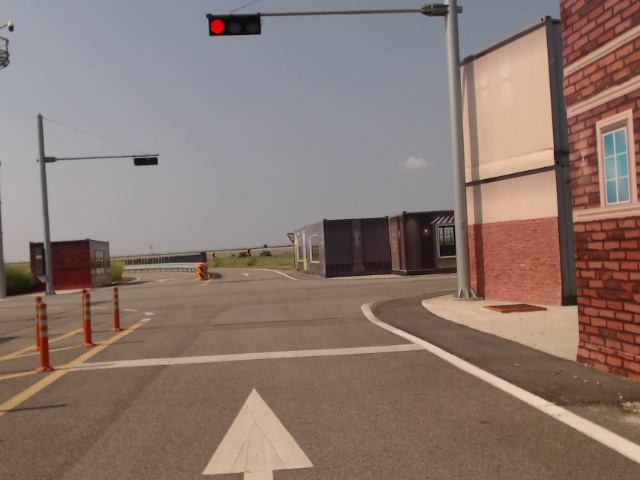red_3: (210, 12, 261, 36)
